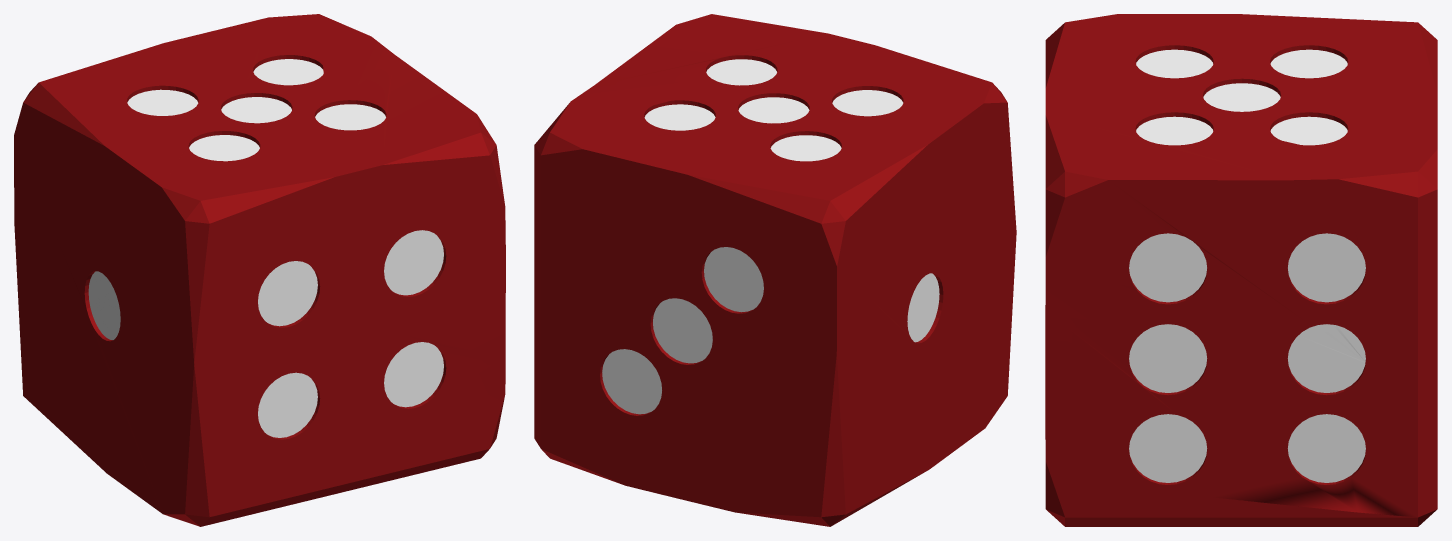
The model's file is 주사위_빨.FBX.
3 views of the same model, side by side, from view 1: azimuth 30°, elevation 25°; view 2: azimuth 150°, elevation 25°; view 3: azimuth 270°, elevation 25° (orthographic). The views are drawn at different scales.
Visible parts, largest first — view 1: 주사위-빨; view 2: 주사위-빨; view 3: 주사위-빨.
Part boxes in pixels (left/top/right/bottom): 주사위-빨: left=14, top=14, right=505, bottom=526; 주사위-빨: left=534, top=14, right=1016, bottom=526; 주사위-빨: left=1045, top=14, right=1437, bottom=526.
Size of the model in its own units: 545 by 545 by 545.
